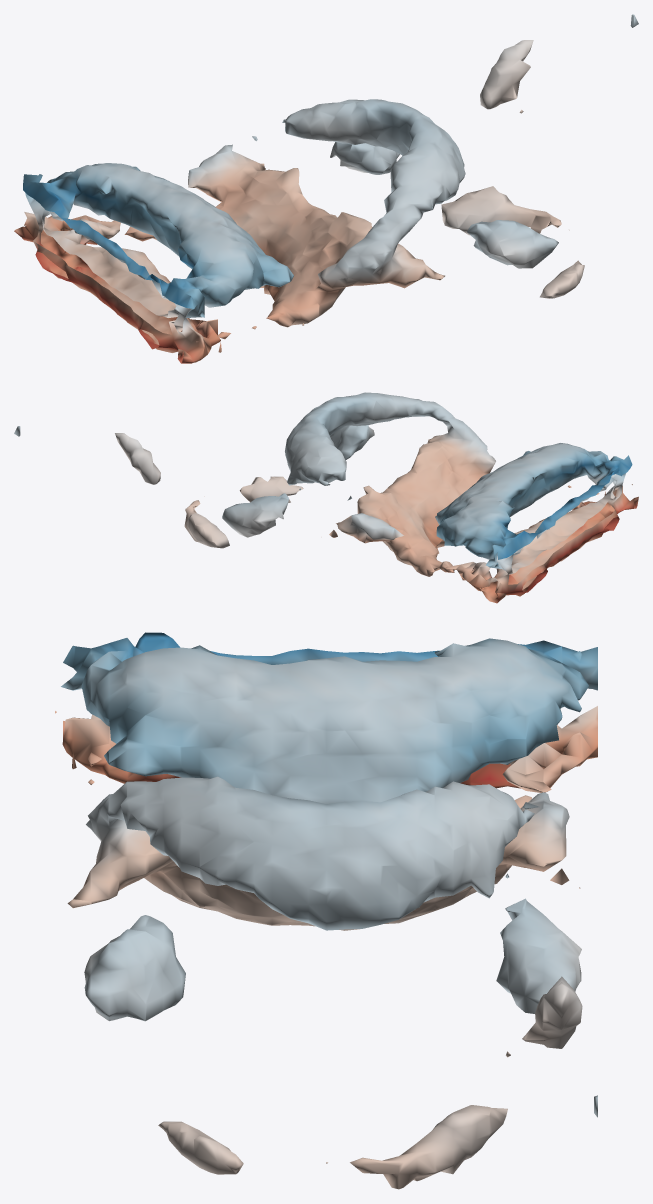
The picture shows the model from 3 angles, top to bottom: view 1: azimuth 30°, elevation 25°; view 2: azimuth 150°, elevation 25°; view 3: azimuth 270°, elevation 25°; orthographic projection. The views are drawn at different scales.
Bounding box in the file's own units: 5.23 × 1.42 × 2.5.
